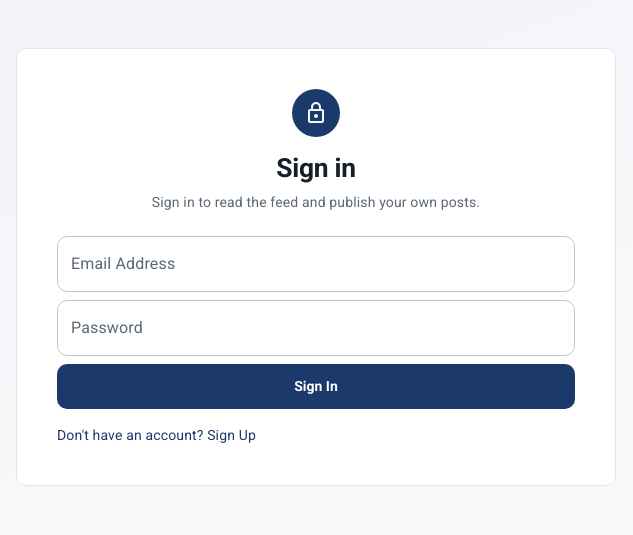
<Signin /> › explains an unreachable server instead of failing silently
Type "ada@example.com" into the field labelled "Email Address" at (316, 264), box [57,236,575,292]
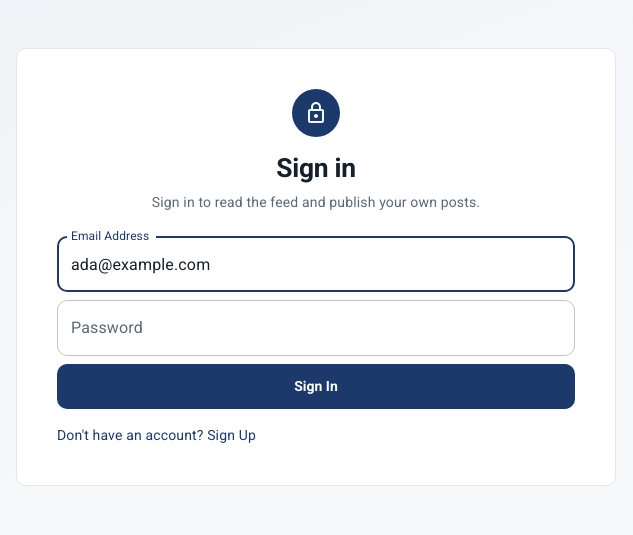
Type "analytical1843" into the password field labelled "Password" at (316, 328), box [57,300,575,356]
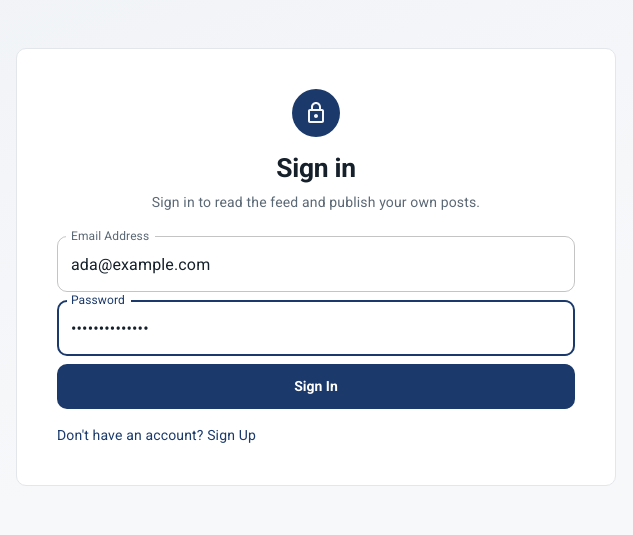
Click the button "Sign In" at (316, 386), box [57,364,575,409]
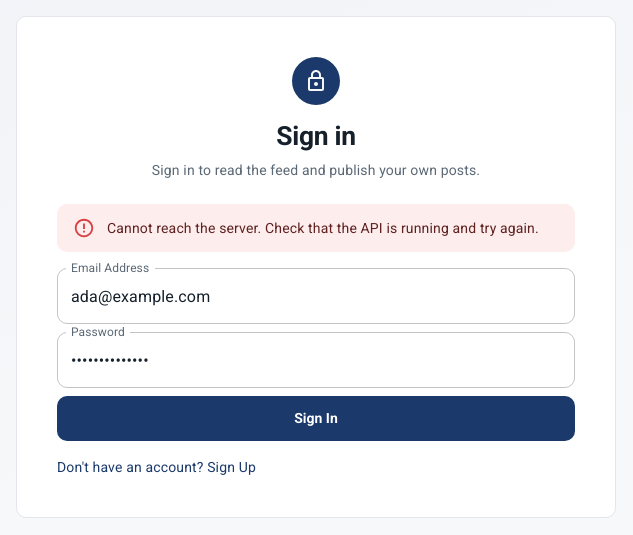
Now the message shows "Cannot reach the server", box [107,220,539,236]
